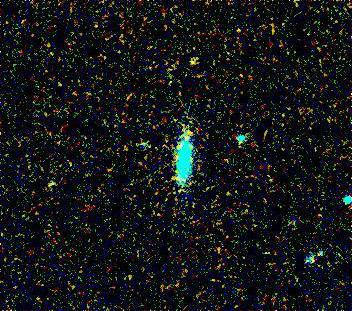star: (181, 54, 211, 84)
